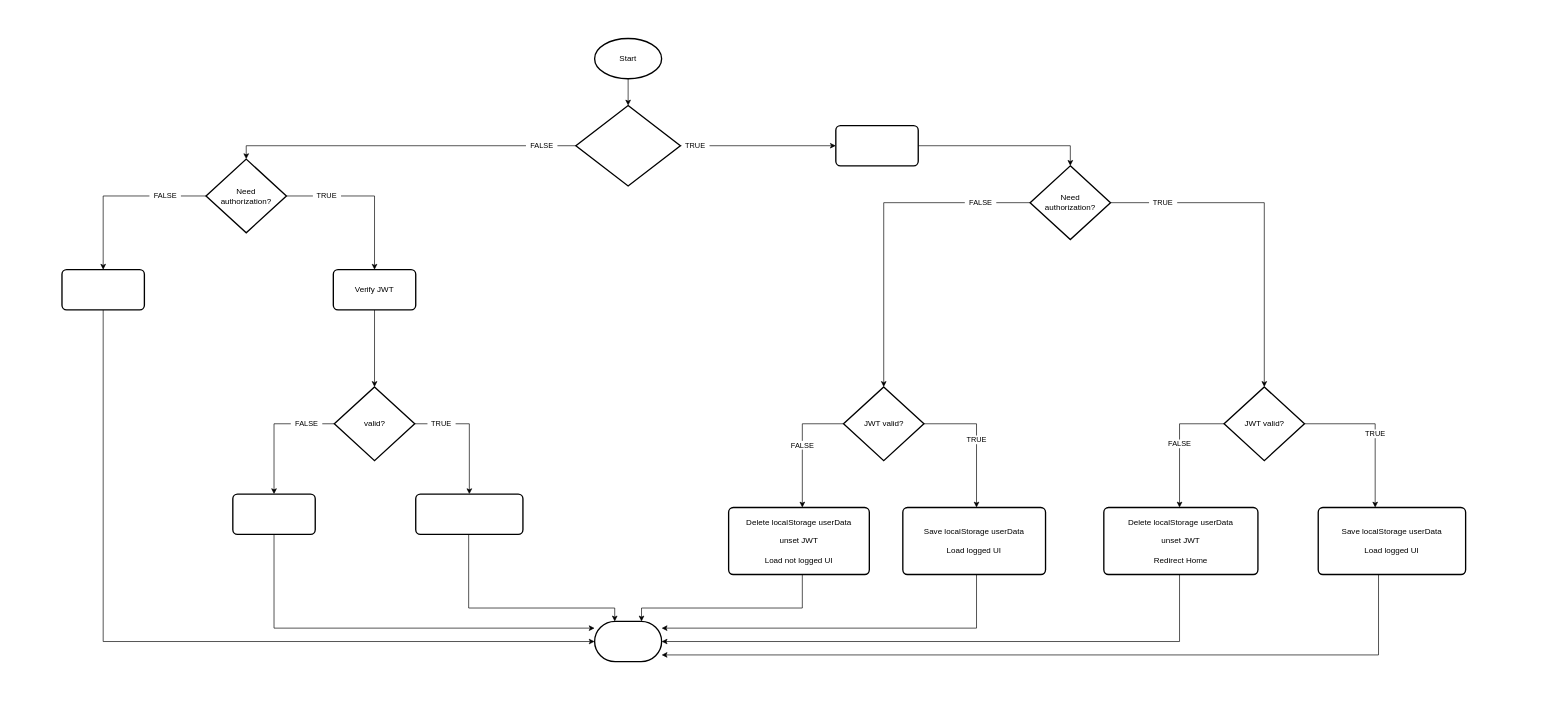
The diagram is 1544 pixels wide and 727 high, and some of its shapes have lost their labels. Here are the shapes that lost their labels. From the top down, the centre of each, then its label:
At [628,145]: "localStorage have userData?".
At [877,145]: "Preload logged UI Verify JWT".
At [103,289]: "Load not logged UI".
At [274,514]: "unset JWT Redirect Home".
At [469,514]: "Set localStorage userData Load logged UI".
At [628,641]: "End".
